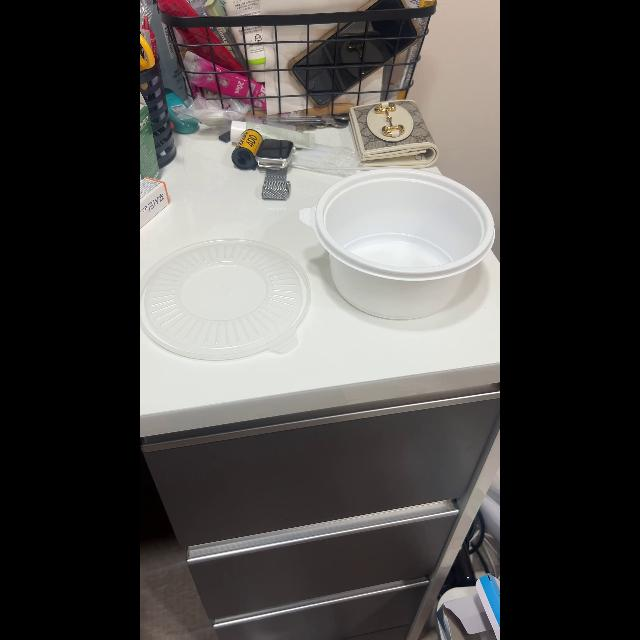clean: (304, 173, 493, 317), (141, 242, 305, 354)
